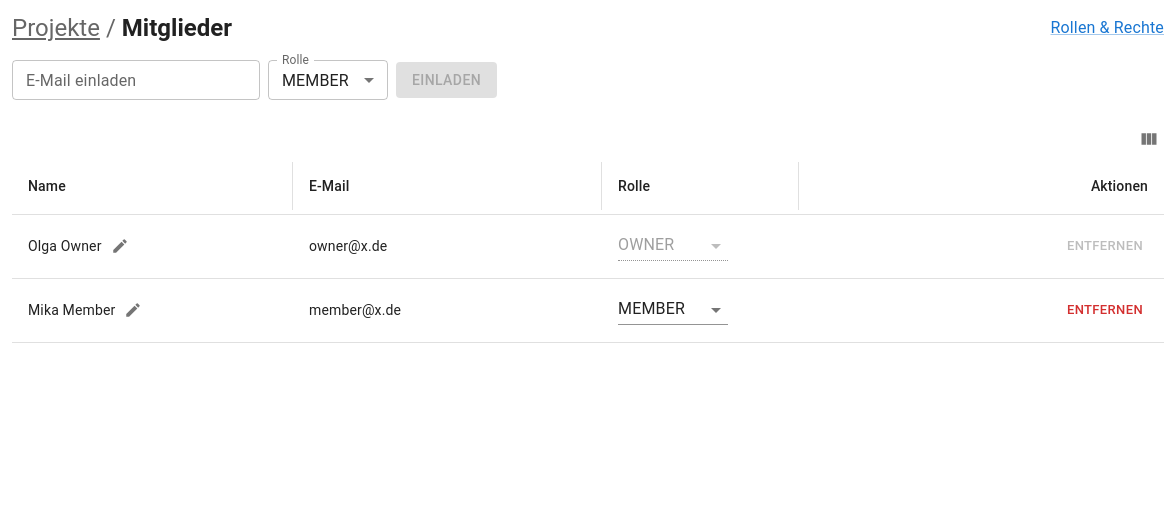
it: ProjectMembersPage › bietet dem Plattform-Admin die Rolle OWNER auch mit Projekt-Rolle ADMIN an
Check: the text "Mika Member" is shown, box [28, 296, 147, 324]
Press the mouse on the dropdown named "Rolle von Mika Member" at (651, 308), box [618, 299, 685, 318]
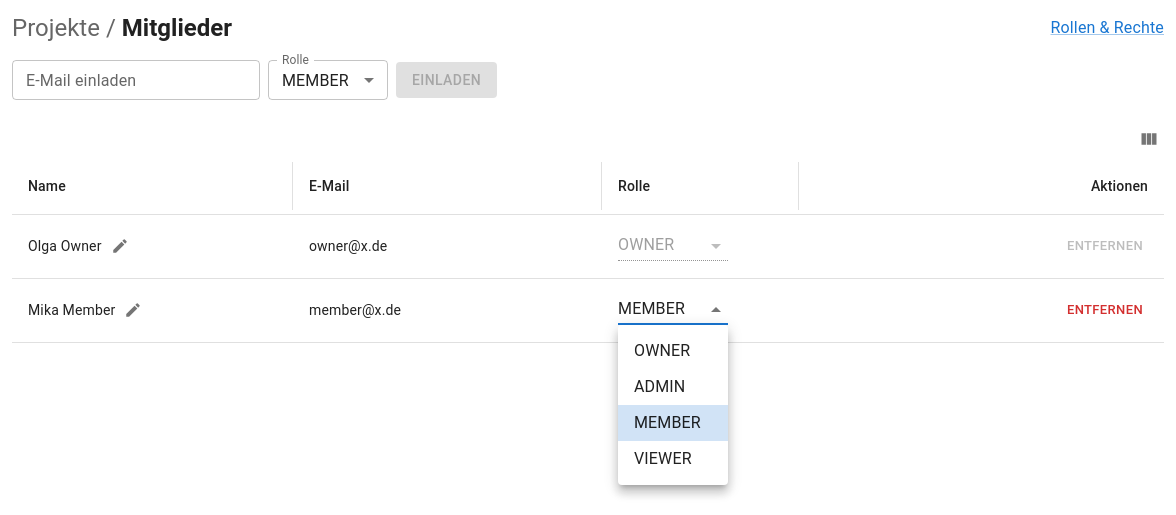
Press Escape in the list, box [618, 325, 728, 485]
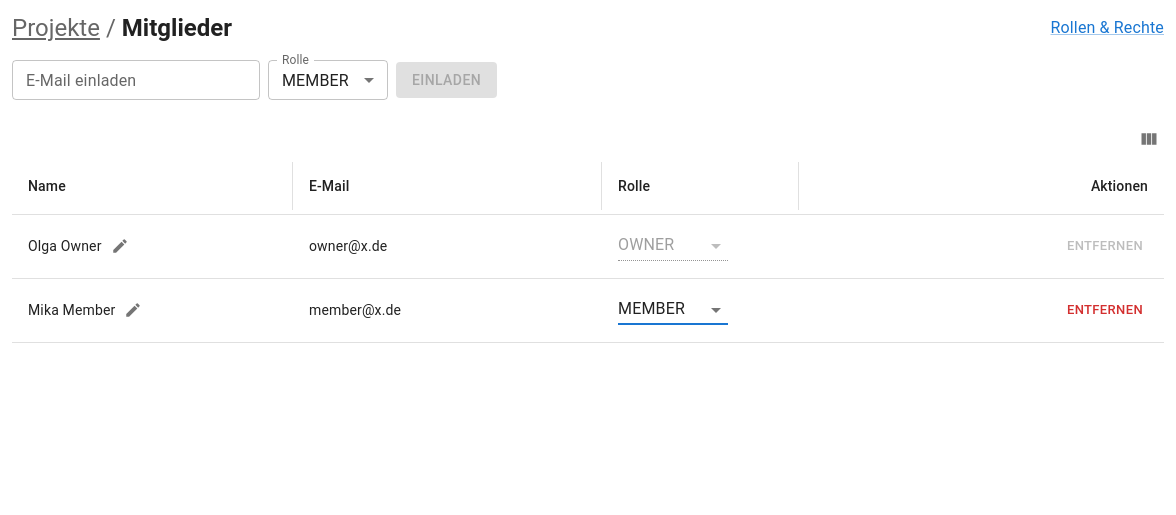
Check: the dropdown named "Rolle von Olga Owner" is shown, box [618, 235, 674, 254]
Check: the list is gone
